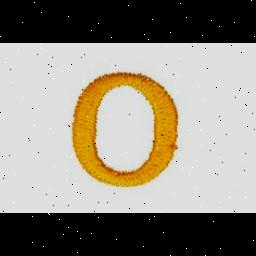o: (68, 67, 184, 191)
